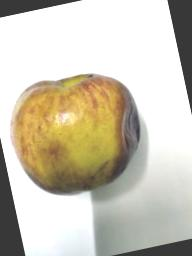Apple Overripe: (0, 40, 167, 211)
